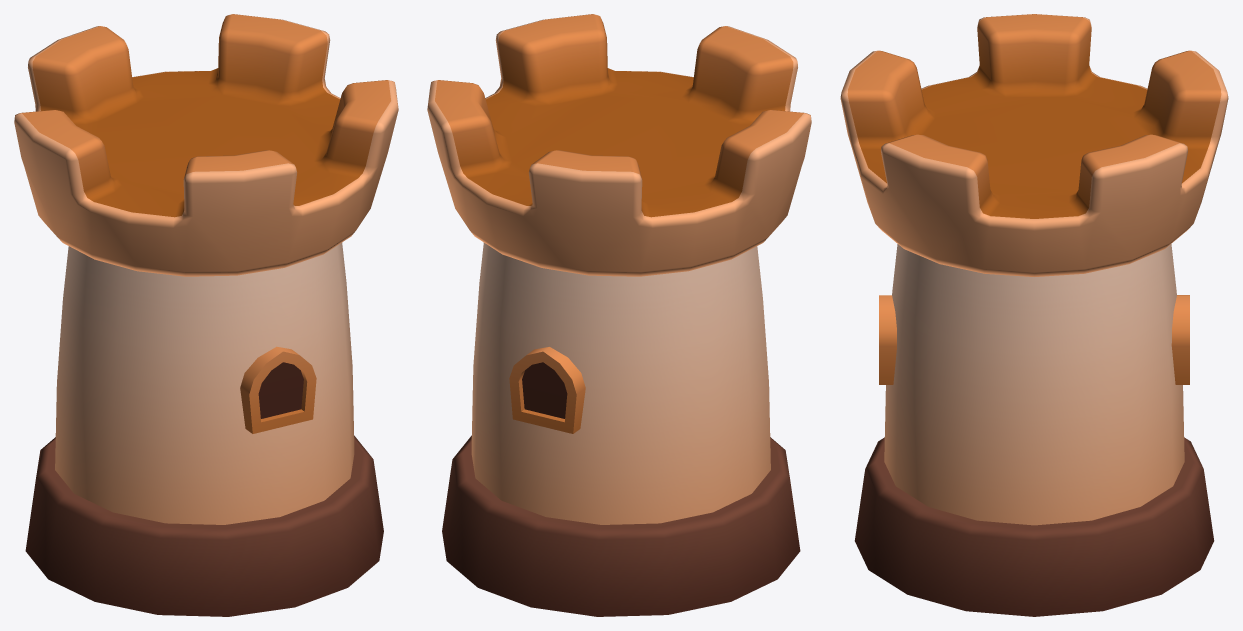
File: Tower_03.glb
The picture shows the model from 3 angles, left to right: view 1: azimuth 30°, elevation 25°; view 2: azimuth 150°, elevation 25°; view 3: azimuth 270°, elevation 25°; orthographic projection.
Visible parts, largest first — view 1: Tower_03; view 2: Tower_03; view 3: Tower_03.
Boxes of the visible parts, x1,y1,x2,y2 form: Tower_03: [14, 14, 398, 616]; Tower_03: [427, 14, 811, 616]; Tower_03: [840, 14, 1228, 616].
Bounding box in the file's own units: 10.03 × 13.07 × 10.29.
Materials: 1 (1 with a texture image).
